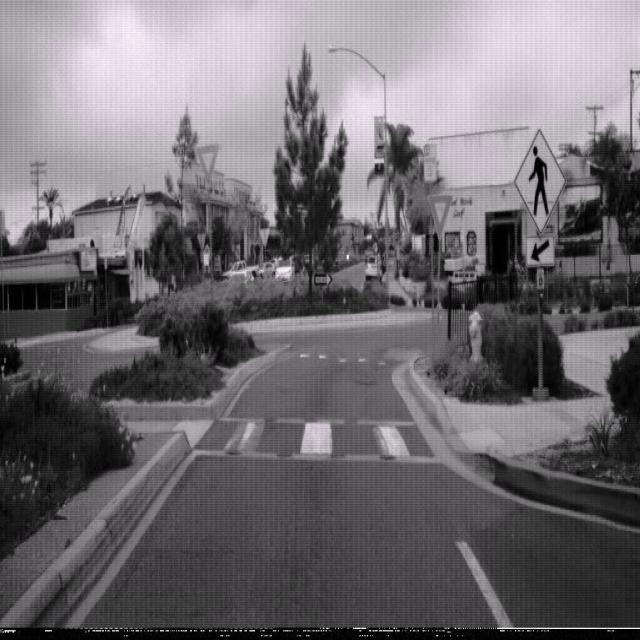pedestrianCrossing: (513, 127, 566, 236)
yield: (428, 192, 453, 242), (195, 141, 221, 186)
